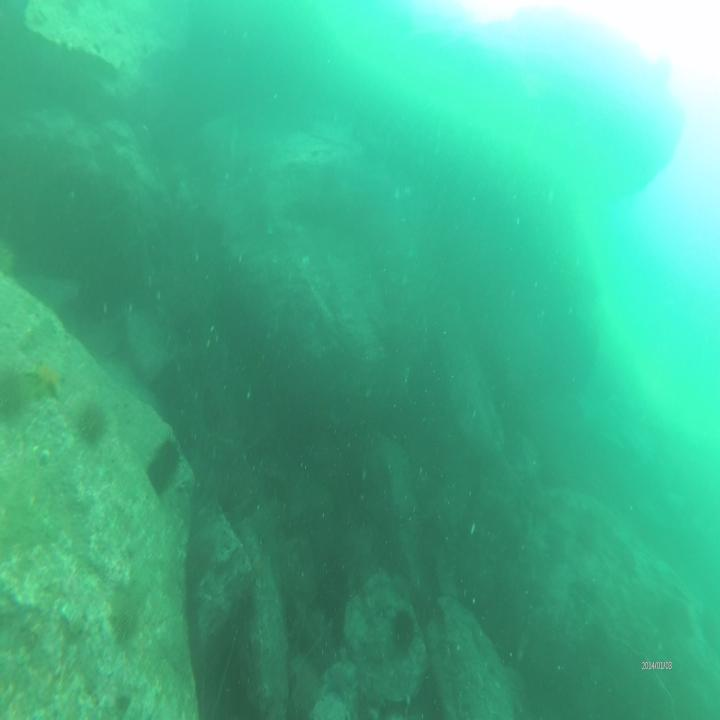echinus: (73, 389, 109, 447), (109, 579, 139, 644), (388, 598, 419, 656), (0, 356, 21, 418)
holothurian: (145, 435, 182, 495)
starfish: (25, 348, 65, 401)
